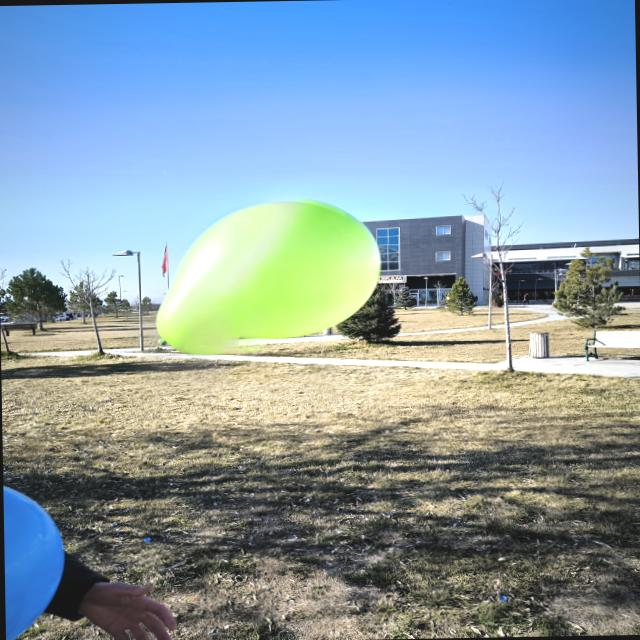balloon: (157, 199, 380, 354), (3, 486, 64, 640)
